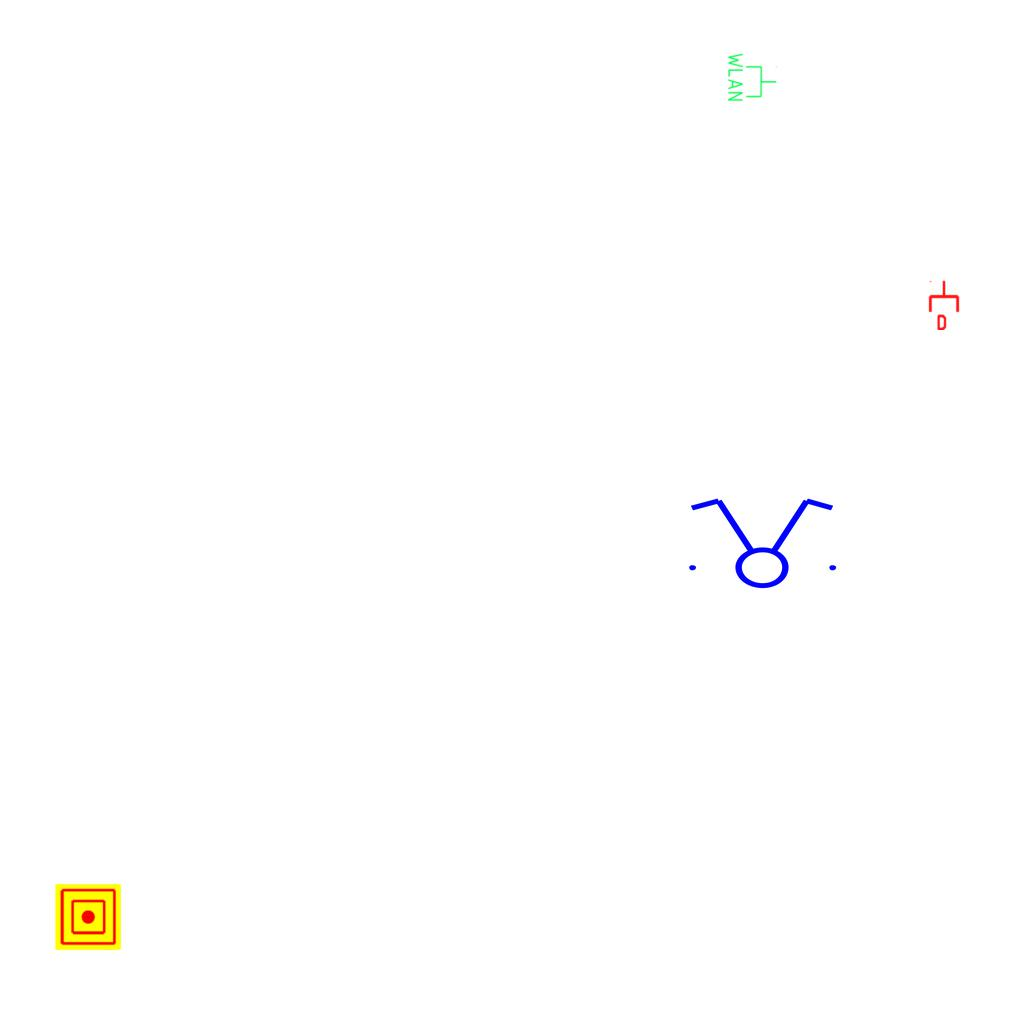Datenanschluss_einfach: (927, 280, 961, 330)
NAM-Nichtautomatischer_Melder: (55, 884, 121, 950)
Serienschalter: (677, 494, 845, 590)
WLAN: (726, 51, 778, 103)
